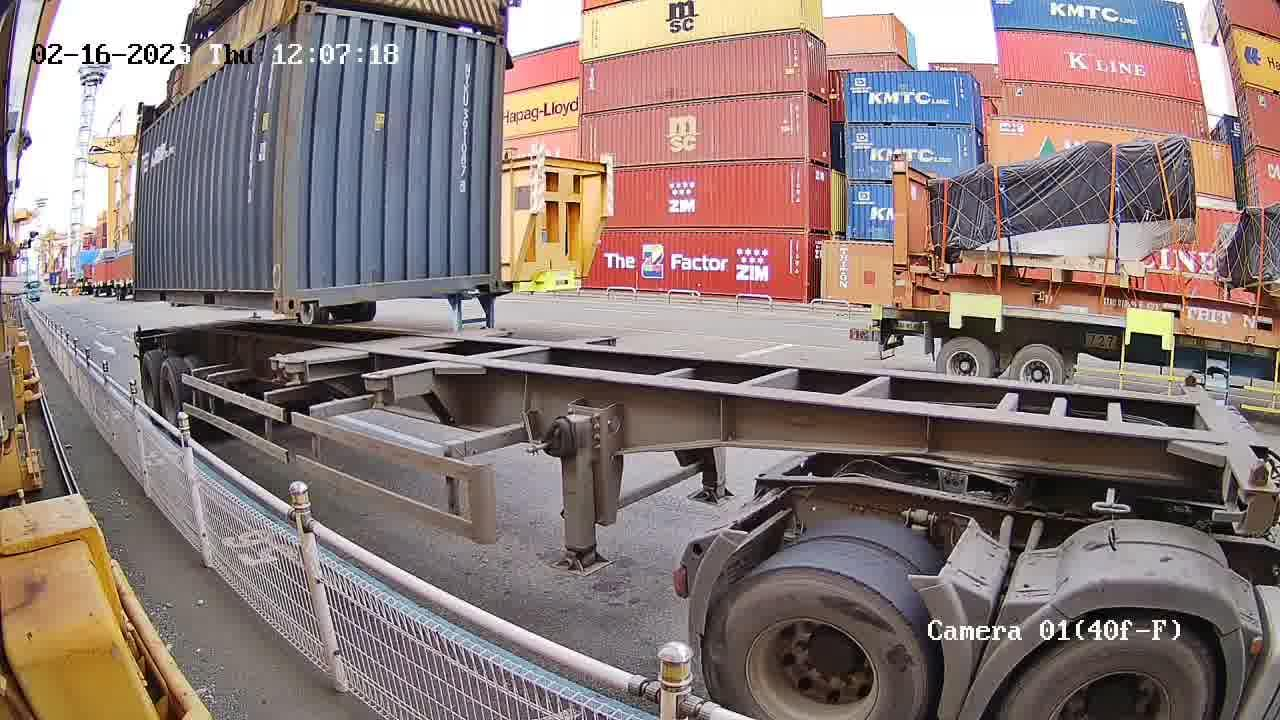Chassis: (288, 327, 513, 371), (269, 323, 492, 360)
Cone: (287, 355, 304, 388), (269, 351, 285, 386)
Hole_L: (283, 279, 317, 312)
Hole_R: (254, 278, 282, 314), (474, 265, 503, 295)
Tire: (701, 569, 925, 716), (1004, 631, 1214, 717), (161, 364, 179, 420), (141, 357, 159, 407)
